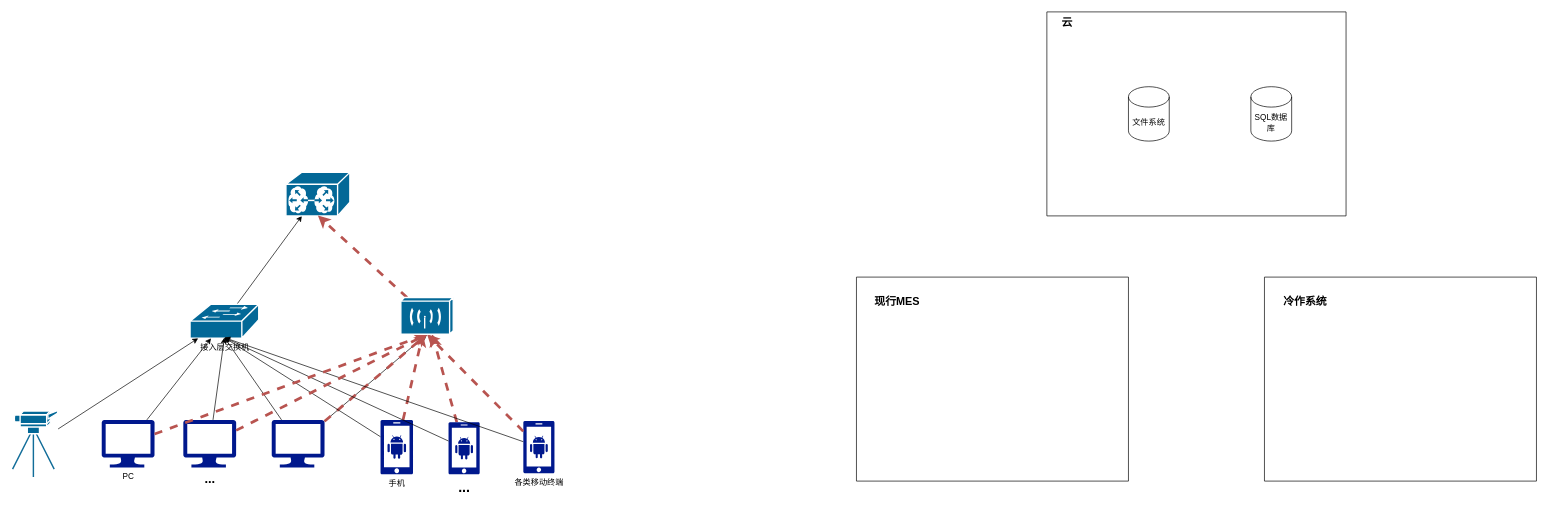
This 1548x508 diagram has some shape labels left out. Each missing label, with the box of its shape:
各类配备操作系统的显示屏: (271, 420, 324, 467)
无线接入点: (400, 296, 454, 335)
汇聚层交换机: (285, 171, 350, 216)
监视器: (12, 409, 58, 477)
